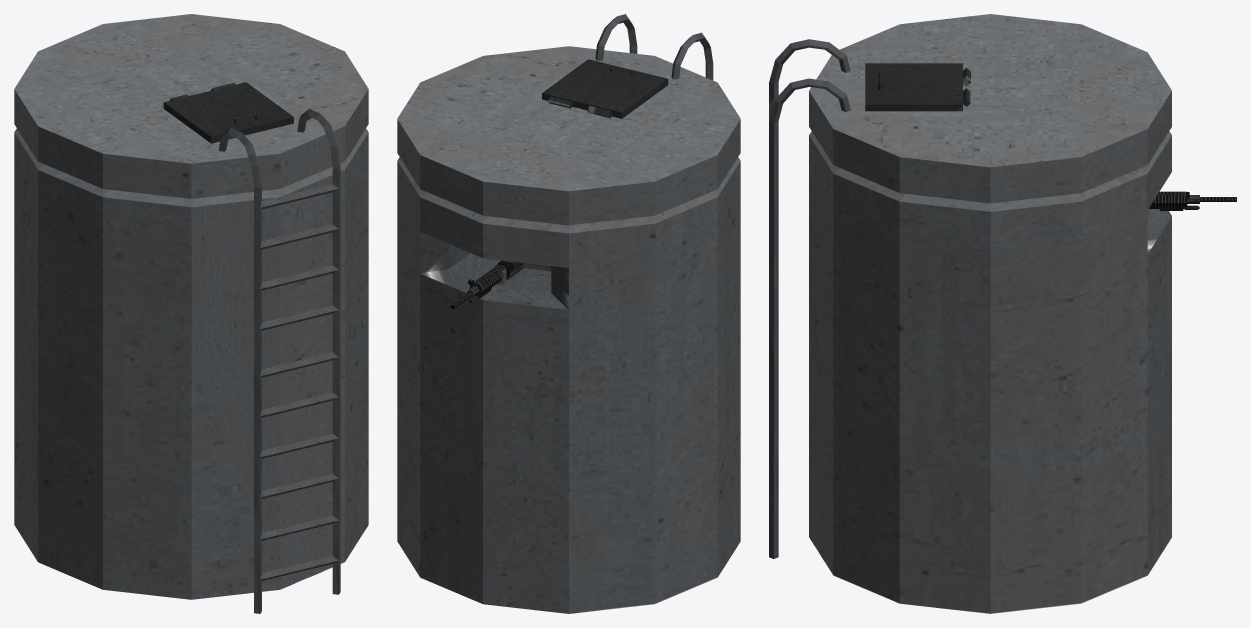
The model's file is pillbox1.glb.
The picture shows the model from 3 angles, left to right: view 1: azimuth 30°, elevation 25°; view 2: azimuth 150°, elevation 25°; view 3: azimuth 270°, elevation 25°; orthographic projection. The views are drawn at different scales.
Parts seen in each view (by area): view 1: 00_chassis_pillbox_ija.mesh; view 2: 00_chassis_pillbox_ija.mesh, weapon_turret_0_type92_hmg.mesh; view 3: 00_chassis_pillbox_ija.mesh, weapon_turret_0_type92_hmg.mesh.
Boxes of the visible parts, left/top/right/bottom form: 00_chassis_pillbox_ija.mesh: left=14, top=14, right=368, bottom=613; 00_chassis_pillbox_ija.mesh: left=397, top=14, right=740, bottom=613; weapon_turret_0_type92_hmg.mesh: left=450, top=260, right=523, bottom=309; 00_chassis_pillbox_ija.mesh: left=769, top=14, right=1171, bottom=613; weapon_turret_0_type92_hmg.mesh: left=1148, top=191, right=1236, bottom=210.
Size of the model in its own units: 3.29 by 4.79 by 4.24.
Materials: 38 (2 with a texture image).
